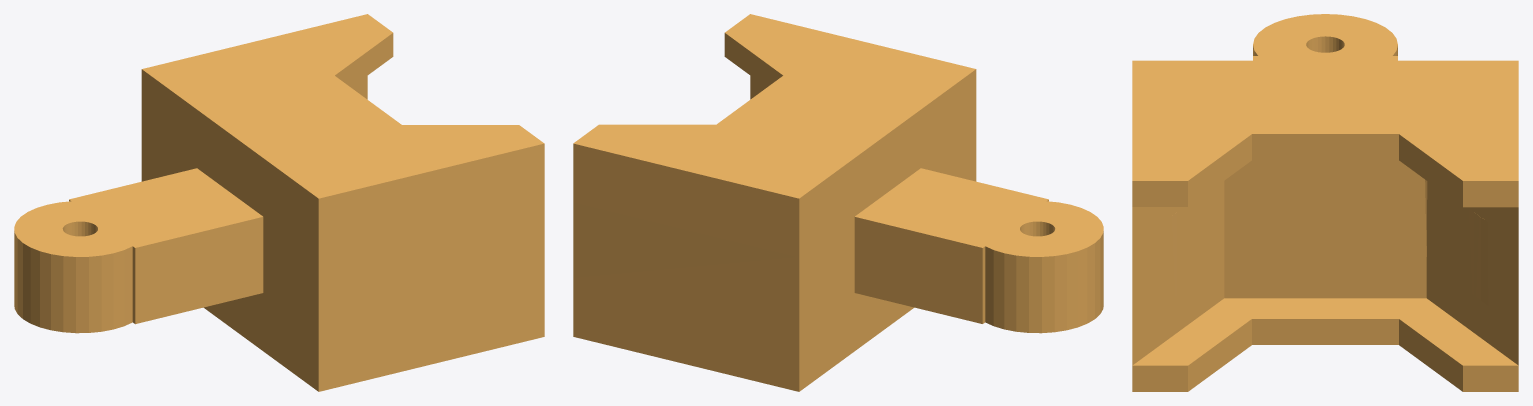
Rendered from gripper_part2.dae.
3 renders of one model, left to right at view 1: azimuth 30°, elevation 25°; view 2: azimuth 150°, elevation 25°; view 3: azimuth 270°, elevation 25°, orthographic. The views are drawn at different scales.
Visible parts, largest first — view 1: mesh_1_griper_par2; view 2: mesh_1_griper_par2; view 3: mesh_1_griper_par2.
Part boxes in pixels (x1,y1,x2,y2): mesh_1_griper_par2: (14, 14, 544, 391); mesh_1_griper_par2: (573, 14, 1103, 391); mesh_1_griper_par2: (1132, 14, 1518, 391).
Size of the model in its own units: 0.0565 by 0.04 by 0.0241.
